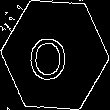O_N: (34, 28, 76, 82)
